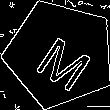M_NE: (26, 21, 94, 87)
